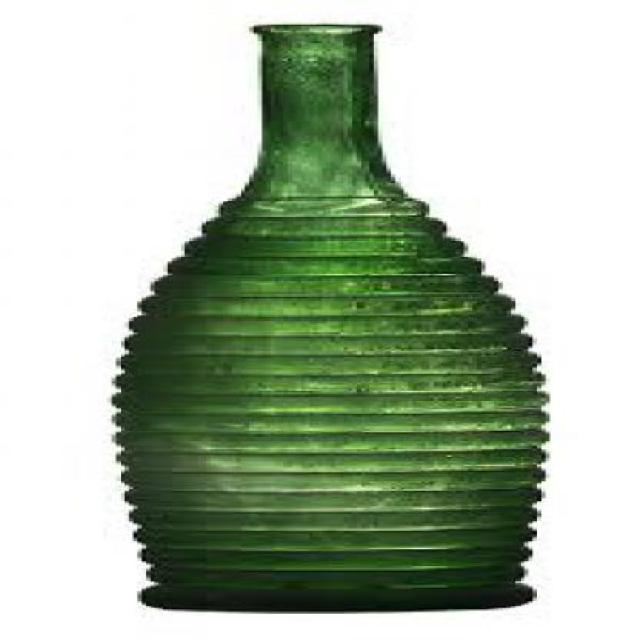kaca: (108, 23, 532, 612)
